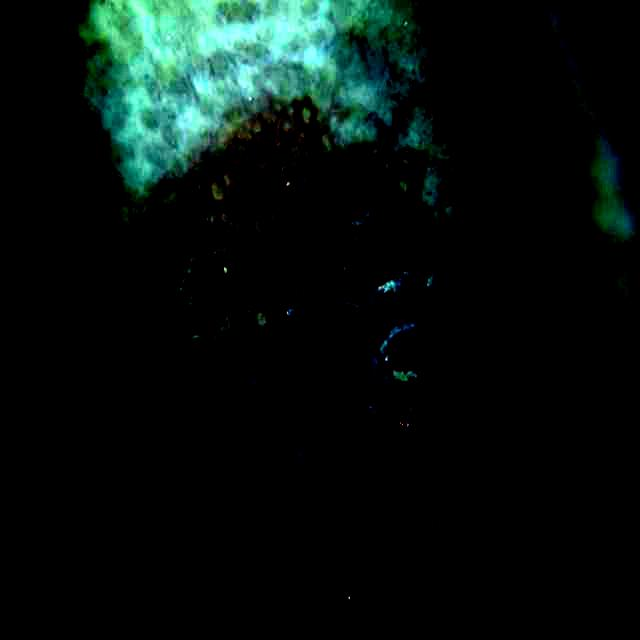AKIEC: (162, 20, 598, 637)
